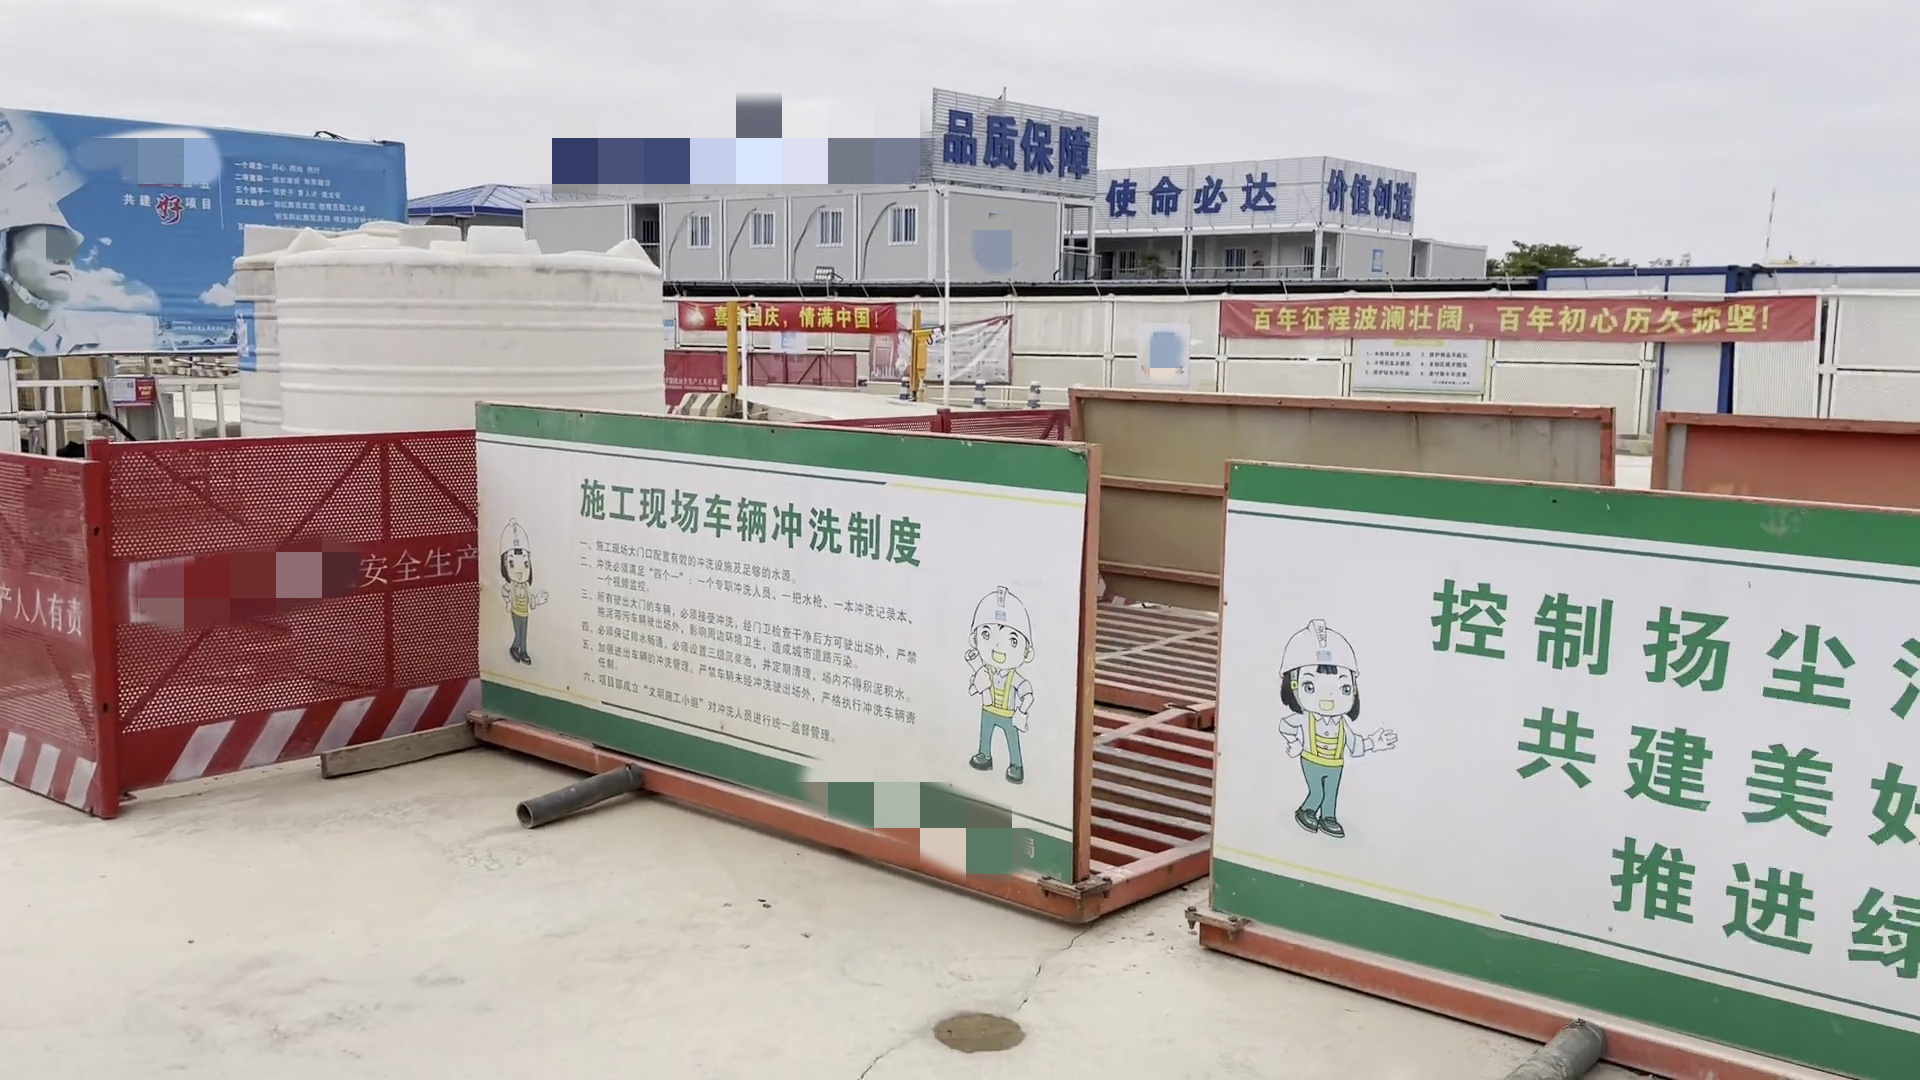fence: (5, 426, 483, 787), (655, 345, 848, 401)
slogan: (1212, 299, 1816, 342), (936, 95, 1085, 186), (1101, 179, 1276, 216), (1317, 166, 1418, 229), (676, 305, 887, 331)
